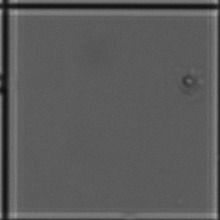Dead Cell: (182, 74, 197, 87)
